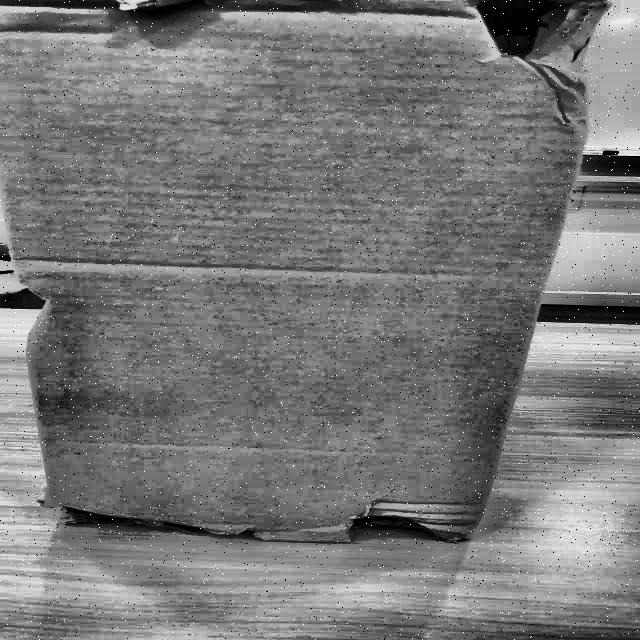box: (1, 0, 614, 548)
hole: (437, 0, 600, 78), (1, 266, 65, 354), (60, 506, 244, 536), (339, 511, 441, 539)
